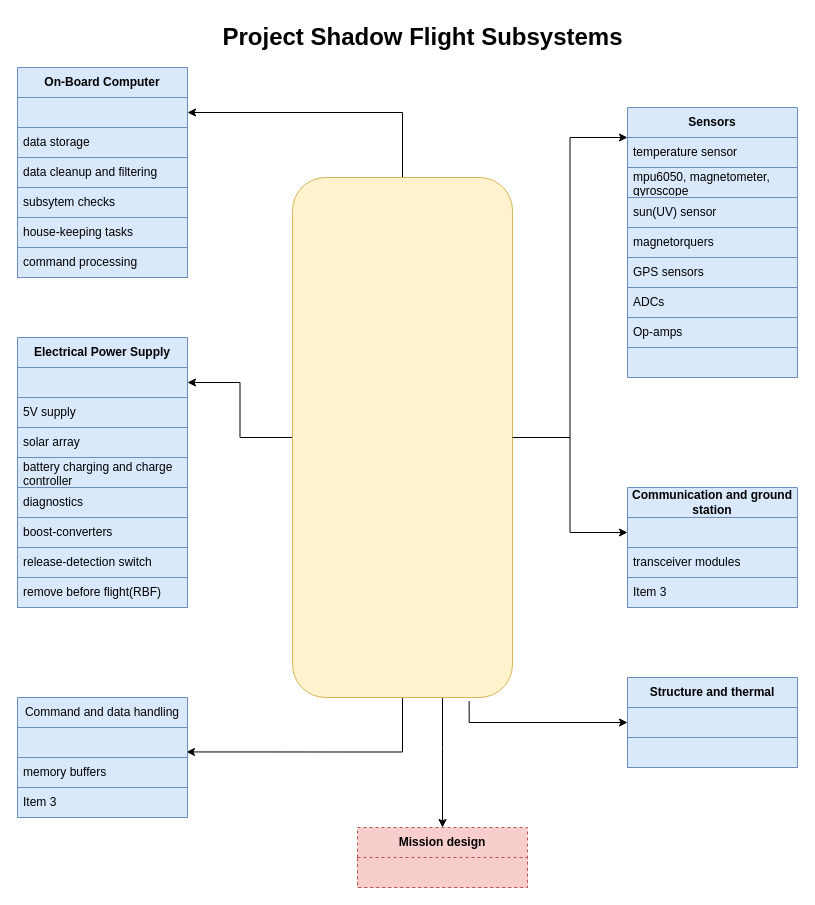
This 815x905 diagram has some shape labels left out. Here are the shapes that lost their labels. From the top down, the centre of each, then its label:
(x=102, y=112): data reception
(x=102, y=382): 3.3V supply
(x=402, y=437): Cubesat
(x=712, y=532): antenna
(x=102, y=742): command parser
(x=712, y=722): frame and casing
(x=712, y=752): thermal subsystem
(x=442, y=872): capture monochrome images
